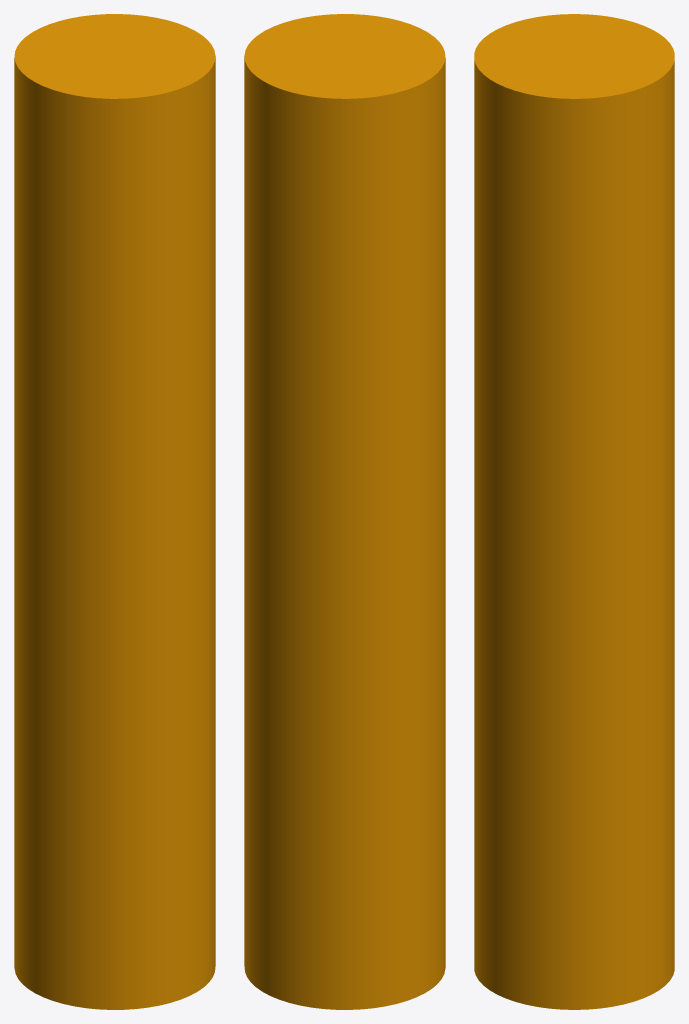
Rendered from wire.fbx.
3 renders of one model, left to right at view 1: azimuth 30°, elevation 25°; view 2: azimuth 150°, elevation 25°; view 3: azimuth 270°, elevation 25°, orthographic.
Parts seen in each view (by area): view 1: pCylinder1; view 2: pCylinder1; view 3: pCylinder1.
Boxes of the visible parts, <box> form: pCylinder1: <box>14,14,215,1009</box>; pCylinder1: <box>244,14,445,1009</box>; pCylinder1: <box>474,14,674,1009</box>.
Size of the model in its own units: 1 by 5 by 0.998.
